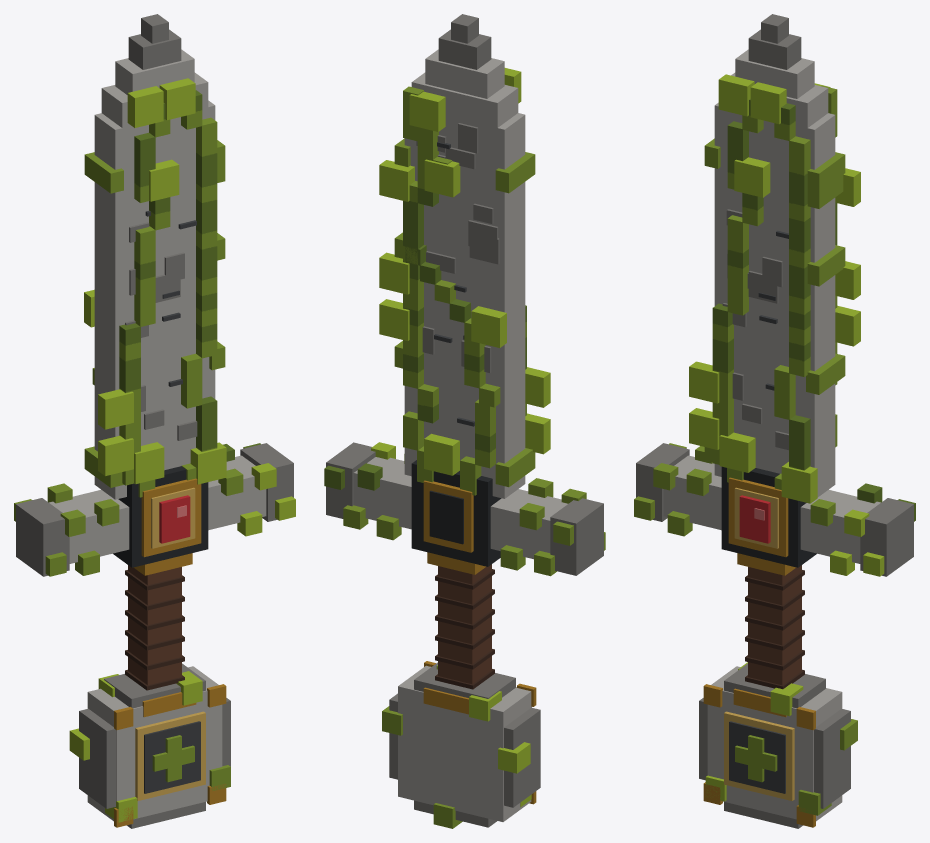
Rendered from mossstone_blade_blender.glb.
3 views of the same model, side by side, from view 1: azimuth 30°, elevation 25°; view 2: azimuth 150°, elevation 25°; view 3: azimuth 330°, elevation 25° (orthographic).
Parts seen in each view (by area): view 1: Moss, Blade, Pommel, Guard, Gold, Grip, Gem; view 2: Blade, Moss, Pommel, Guard, Grip, Gold; view 3: Moss, Blade, Pommel, Guard, Gold, Grip, Gem.
Part boxes in pixels (bbox=[...]): Moss: bbox=[14, 78, 295, 822]; Blade: bbox=[94, 14, 215, 499]; Pommel: bbox=[79, 663, 230, 828]; Guard: bbox=[16, 443, 293, 576]; Gold: bbox=[114, 478, 226, 827]; Grip: bbox=[125, 565, 184, 690]; Gem: bbox=[159, 495, 190, 543]; Blade: bbox=[404, 14, 525, 498]; Moss: bbox=[324, 68, 605, 828]; Pommel: bbox=[389, 662, 540, 827]; Guard: bbox=[326, 442, 603, 575]; Grip: bbox=[435, 564, 494, 689]; Gold: bbox=[423, 480, 536, 804]; Moss: bbox=[634, 74, 915, 815]; Blade: bbox=[714, 14, 835, 497]; Pommel: bbox=[699, 663, 850, 828]; Guard: bbox=[636, 443, 913, 576]; Gold: bbox=[703, 477, 815, 827]; Grip: bbox=[745, 565, 804, 689]; Gem: bbox=[739, 495, 770, 543].
Bounding box in the file's own units: 0.525 × 1.59 × 0.146.
